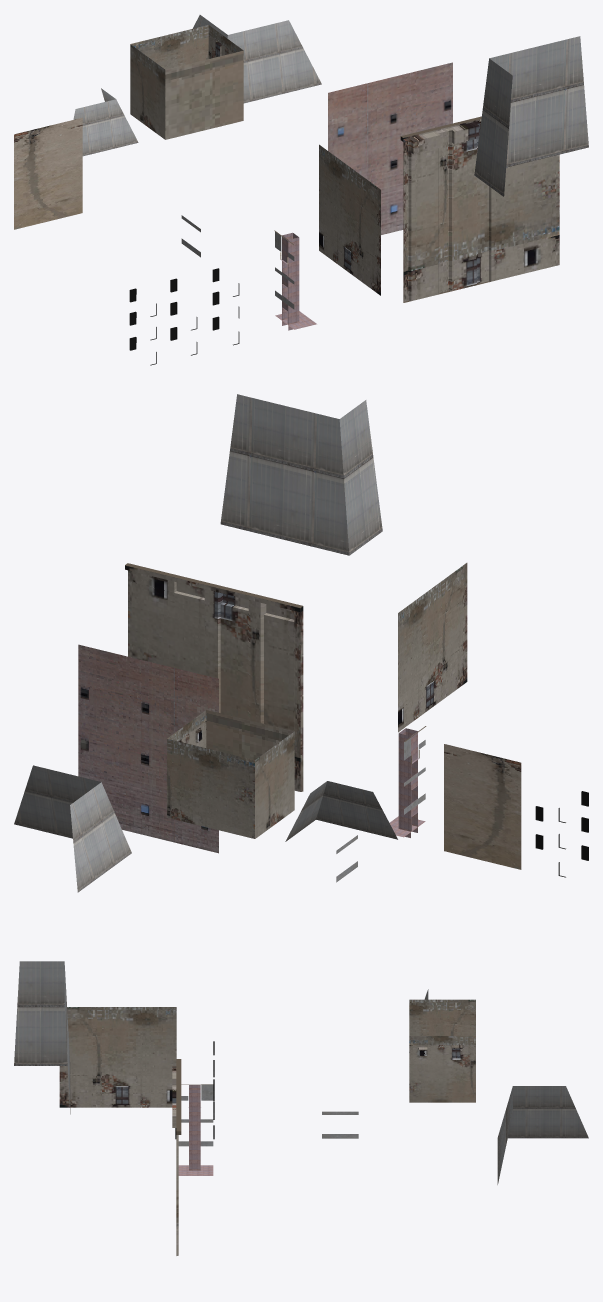
The model's file is EDIFICIOS EXTERIORES.fbx.
3 renders of one model, top to bottom at view 1: azimuth 30°, elevation 25°; view 2: azimuth 150°, elevation 25°; view 3: azimuth 270°, elevation 25°, orthographic. The views are drawn at different scales.
Visible parts, largest first — view 1: EDIFICIOS No COLAIDER; view 2: EDIFICIOS No COLAIDER; view 3: EDIFICIOS No COLAIDER.
Part boxes in pixels (x1,y1,x2,y2): EDIFICIOS No COLAIDER: [14, 15, 588, 365]; EDIFICIOS No COLAIDER: [14, 394, 588, 892]; EDIFICIOS No COLAIDER: [14, 961, 588, 1255].
Size of the model in its own units: 9281 by 5690 by 10890.
8 materials, 7 textured.
